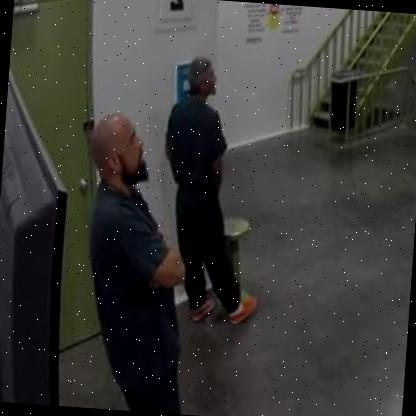person: (66, 103, 216, 416), (152, 44, 278, 332)
